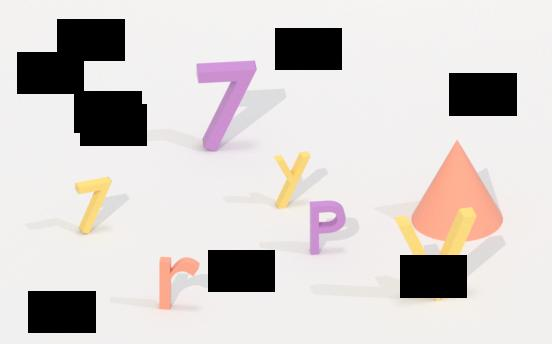7: (192, 59, 261, 152), (71, 176, 117, 234)
R: (156, 253, 207, 314)
Y: (269, 149, 313, 210)
non: (402, 140, 516, 242)
p: (306, 197, 348, 258)
v: (398, 212, 476, 304)
